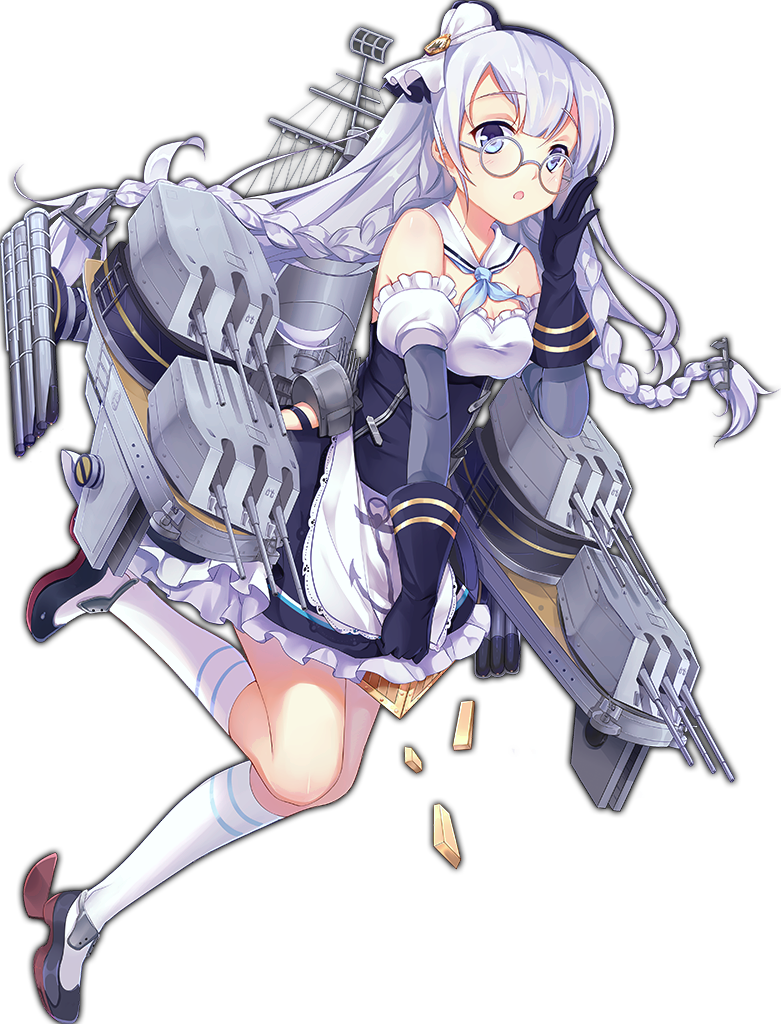person: (107, 19, 636, 882)
